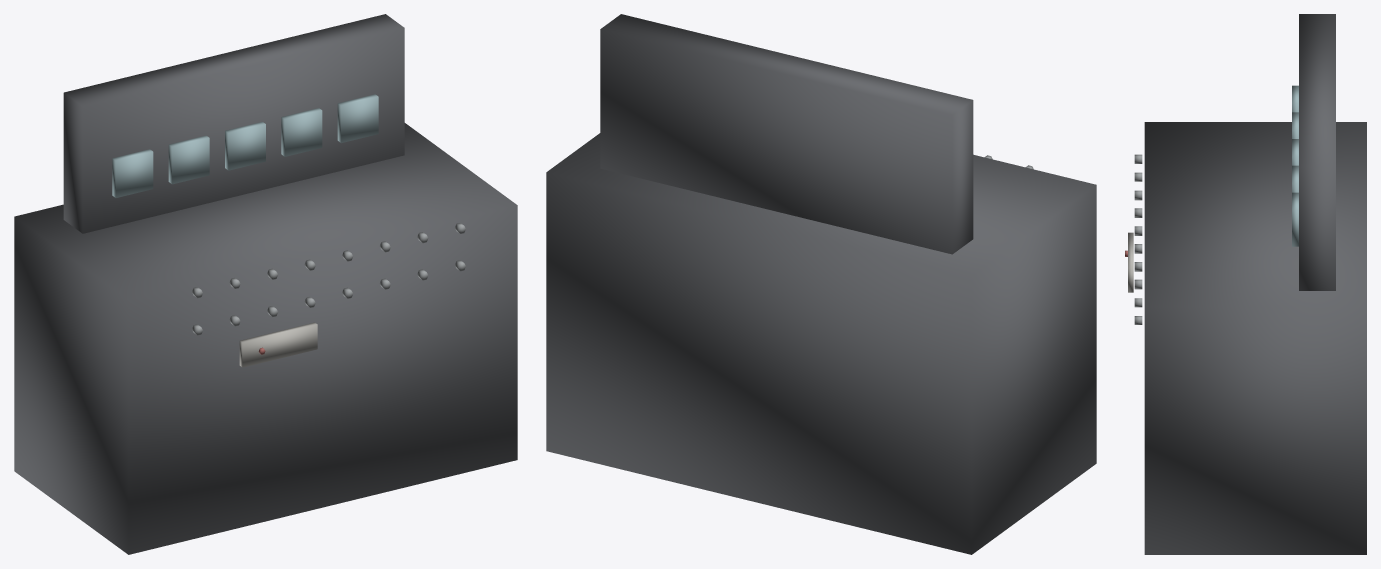
Rendered from pa_rack__compact.glb.
3 renders of one model, left to right at view 1: azimuth 30°, elevation 25°; view 2: azimuth 150°, elevation 25°; view 3: azimuth 270°, elevation 25°, orthographic. The views are drawn at different scales.
Visible parts, largest first — view 1: world; view 2: world; view 3: world.
Part boxes in pixels (box(x1,y1,x2,y2)): world: box(14, 14, 517, 554); world: box(546, 14, 1096, 554); world: box(1125, 14, 1366, 554).
Bounding box in the file's own units: 1.22 × 1.14 × 0.6738.
